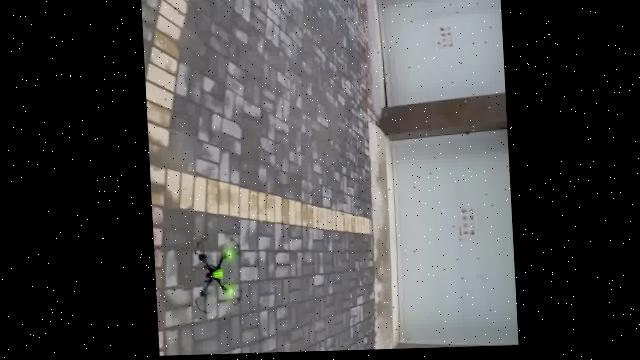drone: (178, 230, 241, 321)
